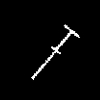double_crochet: (31, 25, 79, 79)
